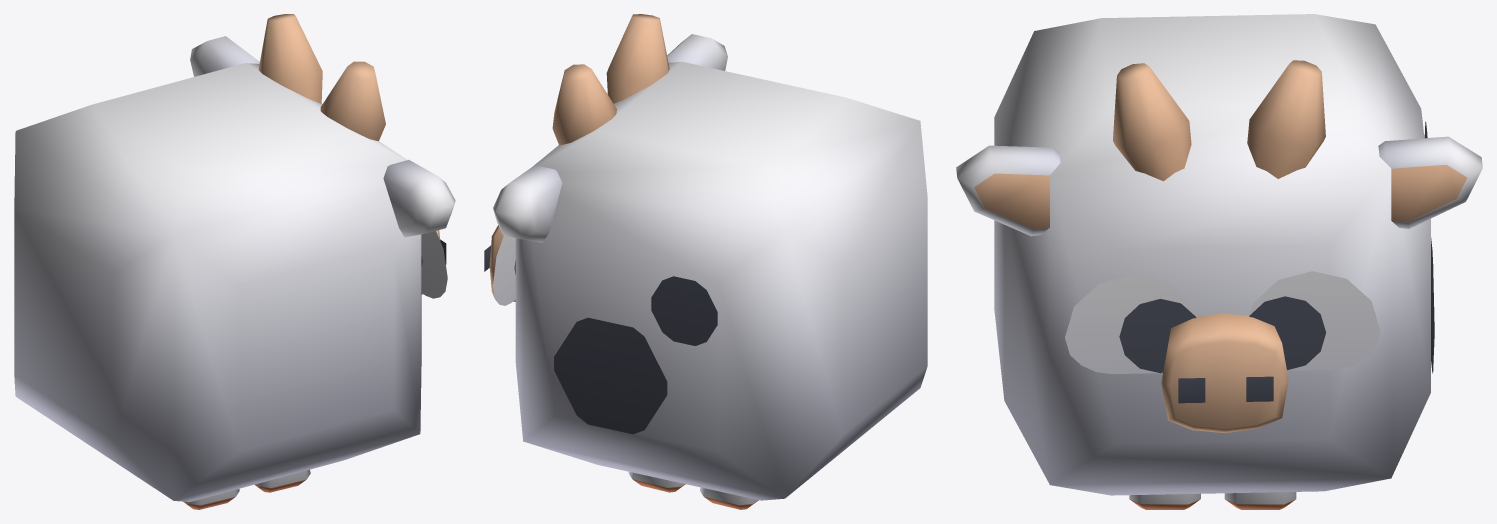
File: animal-cow.glb
The picture shows the model from 3 angles, left to right: view 1: azimuth 30°, elevation 25°; view 2: azimuth 150°, elevation 25°; view 3: azimuth 270°, elevation 25°; orthographic projection. The views are drawn at different scales.
Visible parts, largest first — view 1: body.004, leg-front-left.004, leg-front-right.004; view 2: body.004, leg-back-right.003, leg-back-left.003; view 3: body.004, Group.001, leg-back-left.003, leg-front-left.004.
Boxes of the visible parts, x1,y1,x2,y2 form: body.004: (14, 14, 455, 501); leg-front-left.004: (254, 469, 310, 492); leg-front-right.004: (183, 489, 239, 509); body.004: (484, 14, 927, 500); leg-back-right.003: (700, 487, 758, 509); leg-back-left.003: (628, 472, 685, 492); body.004: (956, 14, 1482, 495); Group.001: (1161, 313, 1288, 433); leg-back-left.003: (1224, 492, 1296, 509); leg-front-left.004: (1129, 493, 1200, 509).
Size of the model in its own units: 2.65 by 2.74 by 2.76.
Materials: 1 (1 with a texture image).
